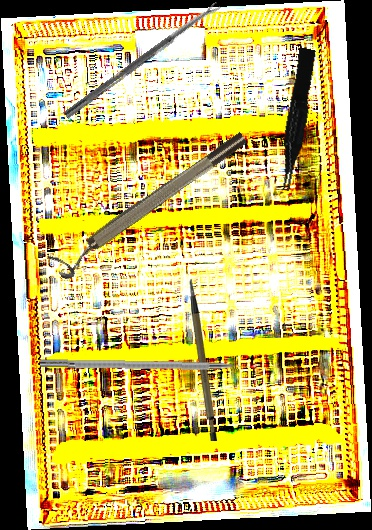Fixation Ring: (47, 128, 256, 283)
Hook Surgical: (39, 358, 268, 373)
Scalpel Handle: (189, 279, 219, 441)
Surgical Spoon: (63, 1, 222, 120)
Tissue Forceps: (270, 47, 322, 192)
